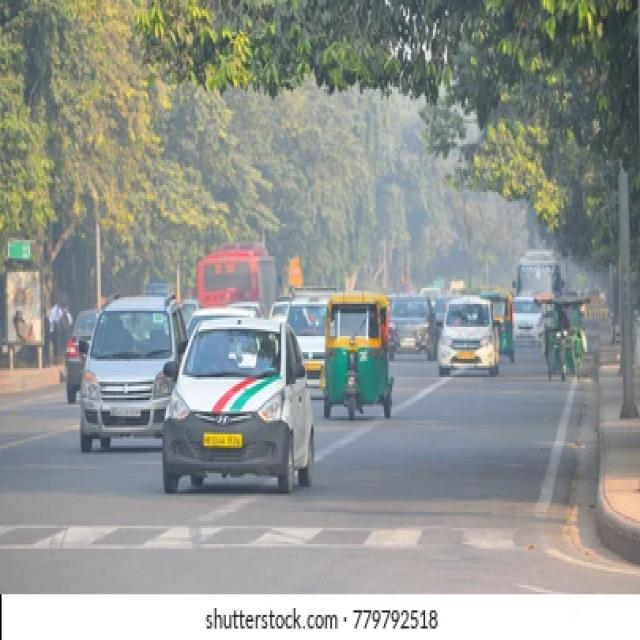Vehicles: (161, 317, 331, 501), (78, 284, 198, 445), (320, 297, 412, 431), (195, 238, 294, 338), (279, 282, 363, 386), (434, 284, 508, 378), (64, 307, 125, 414), (518, 241, 562, 317), (391, 292, 438, 361), (480, 289, 520, 360), (511, 292, 553, 347)
